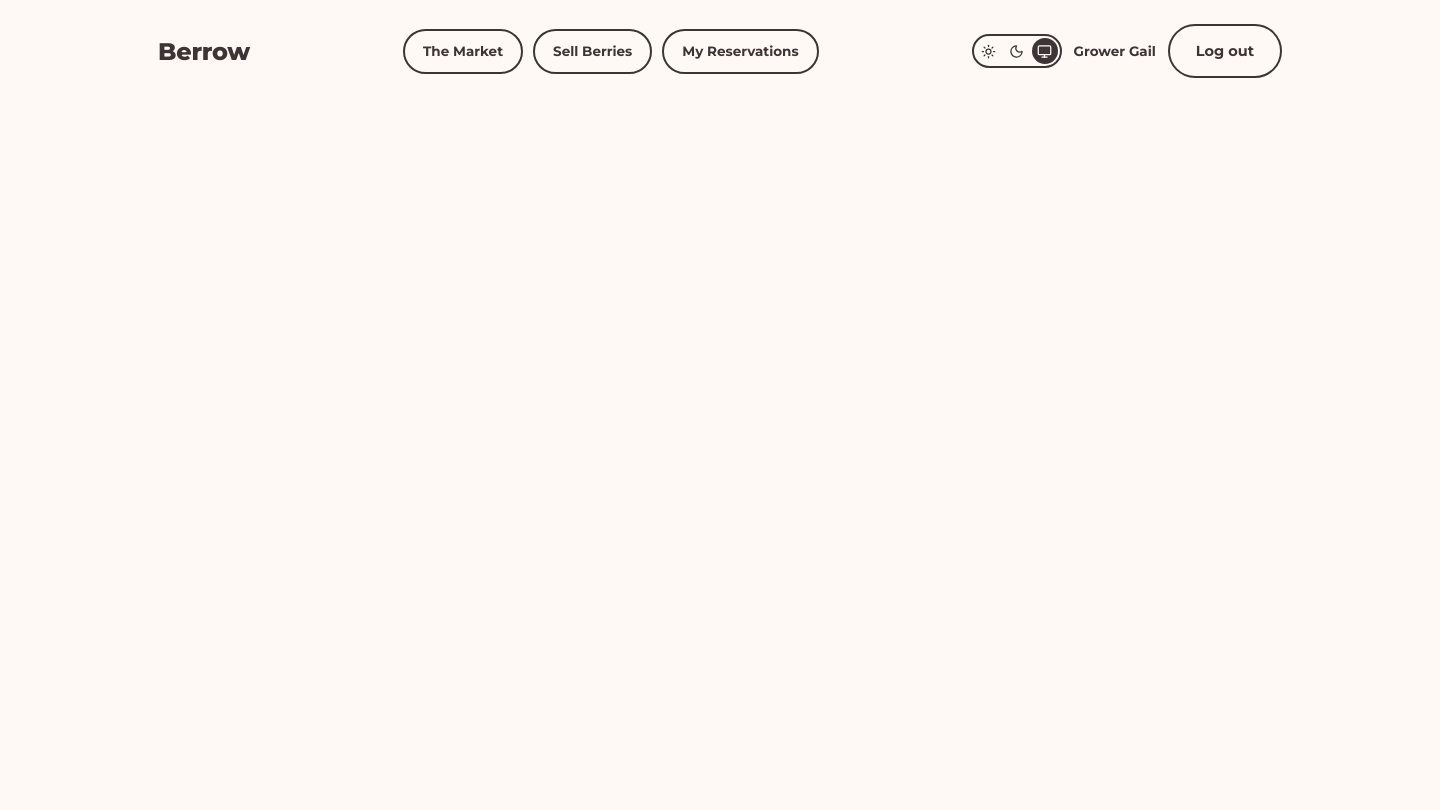
Header › shows a toast instead of failing silently when logout errors
Expected: the text "Grower Gail" is shown, left=1074, top=41, right=1156, bottom=62
Click the button "Log out": (1225, 51) left=1168, top=24, right=1282, bottom=78
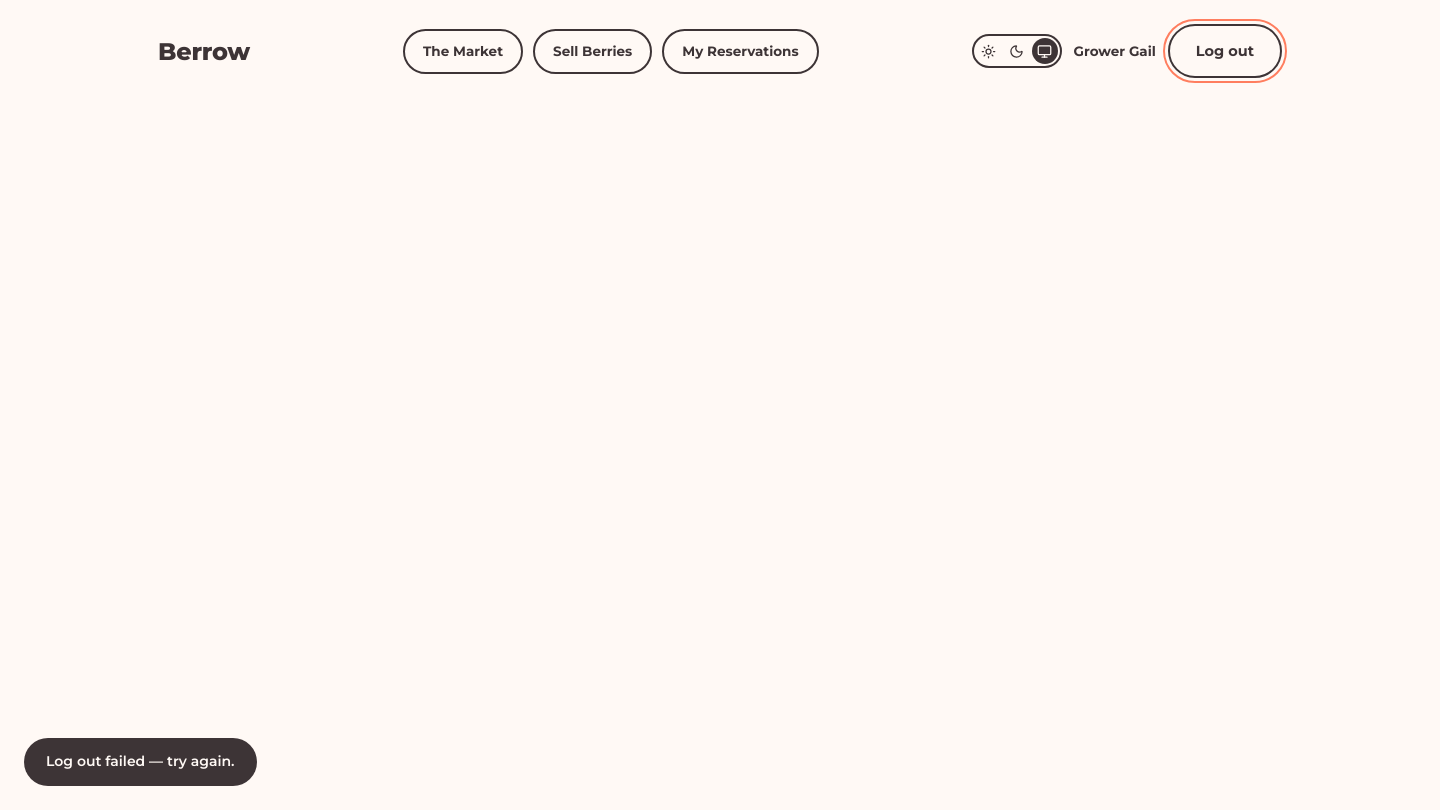
Expected: the text "Grower Gail" is shown, left=1074, top=41, right=1156, bottom=62
Expected: the text "Log out failed — try again." is shown, left=24, top=738, right=256, bottom=786
